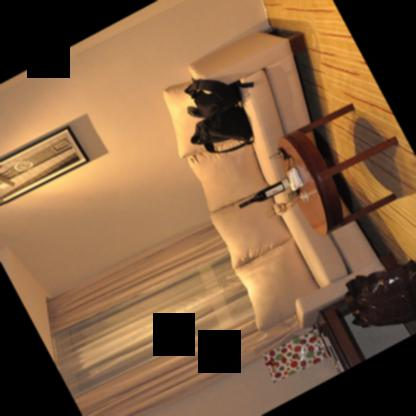backpack: (190, 105, 256, 153), (182, 78, 253, 117)
handbag: (189, 105, 251, 153), (182, 78, 239, 117)
